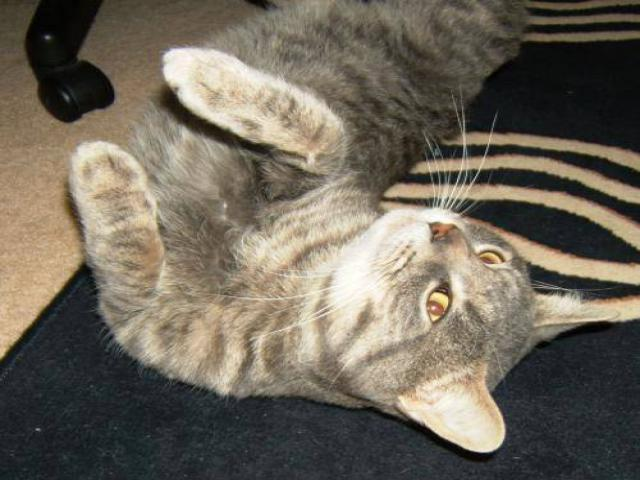cat: (92, 4, 624, 460)
